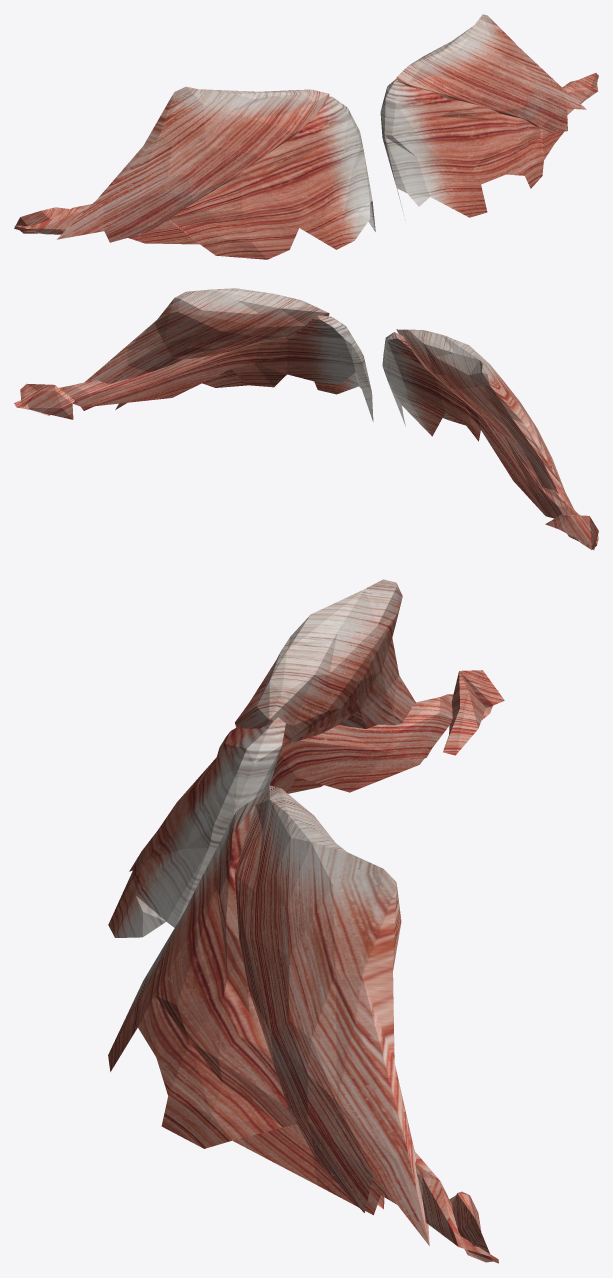
Rendered from Pectoralis.obj.
The picture shows the model from 3 angles, top to bottom: view 1: azimuth 30°, elevation 25°; view 2: azimuth 150°, elevation 25°; view 3: azimuth 270°, elevation 25°; orthographic projection. The views are drawn at different scales.
Visible parts, largest first — view 1: Musculos_Cabeza_1:Pectoralis1:Pectoralis; view 2: Musculos_Cabeza_1:Pectoralis1:Pectoralis; view 3: Musculos_Cabeza_1:Pectoralis1:Pectoralis.
Part boxes in pixels (<box>): Musculos_Cabeza_1:Pectoralis1:Pectoralis: <box>14,14,598,259</box>; Musculos_Cabeza_1:Pectoralis1:Pectoralis: <box>14,288,598,549</box>; Musculos_Cabeza_1:Pectoralis1:Pectoralis: <box>108,579,504,1263</box>.
Bounding box in the file's own units: 1.59 × 0.3644 × 0.4676.
1 material, 1 textured.
